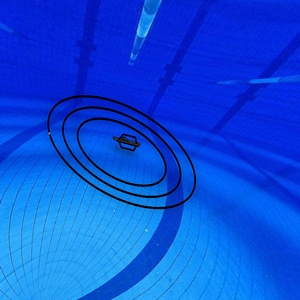circle: (46, 93, 205, 214)
submarine: (113, 130, 145, 157)
